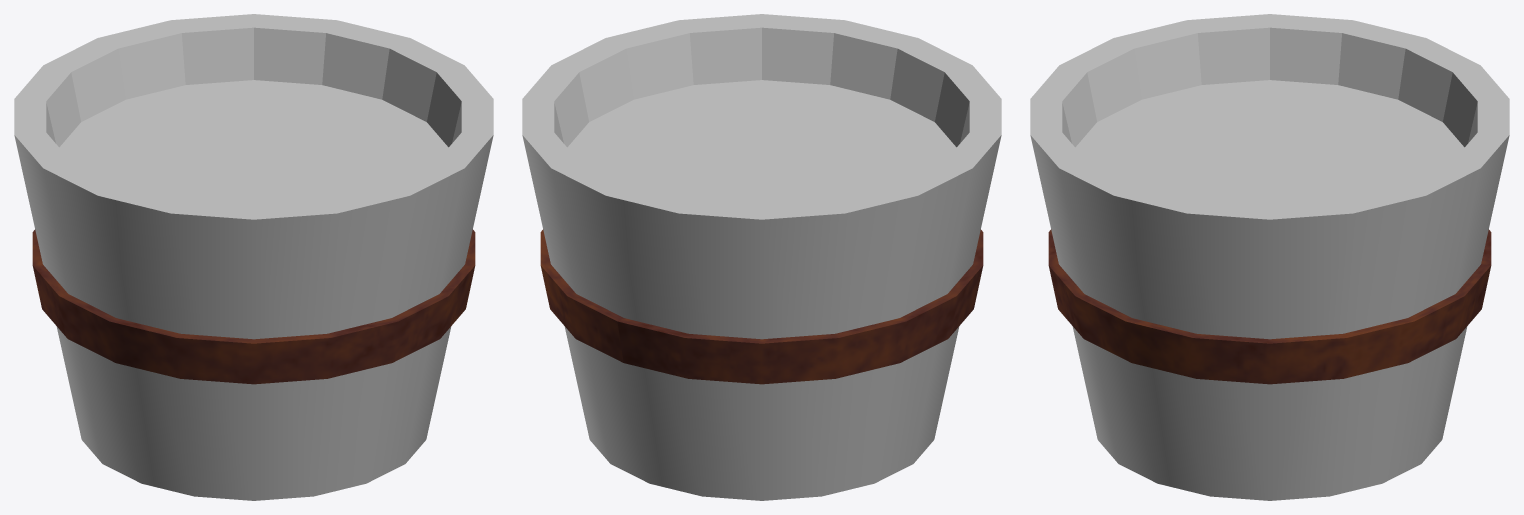
The model's file is Bucket.FBX.
The picture shows the model from 3 angles, left to right: view 1: azimuth 30°, elevation 25°; view 2: azimuth 150°, elevation 25°; view 3: azimuth 270°, elevation 25°; orthographic projection.
Parts seen in each view (by area): view 1: Cylinder001; view 2: Cylinder001; view 3: Cylinder001.
Part boxes in pixels (x1=…): Cylinder001: x1=14, y1=14, x2=493, y2=500; Cylinder001: x1=522, y1=14, x2=1001, y2=500; Cylinder001: x1=1030, y1=14, x2=1509, y2=500.
Size of the model in its own units: 62.21 by 43.74 by 61.27.
